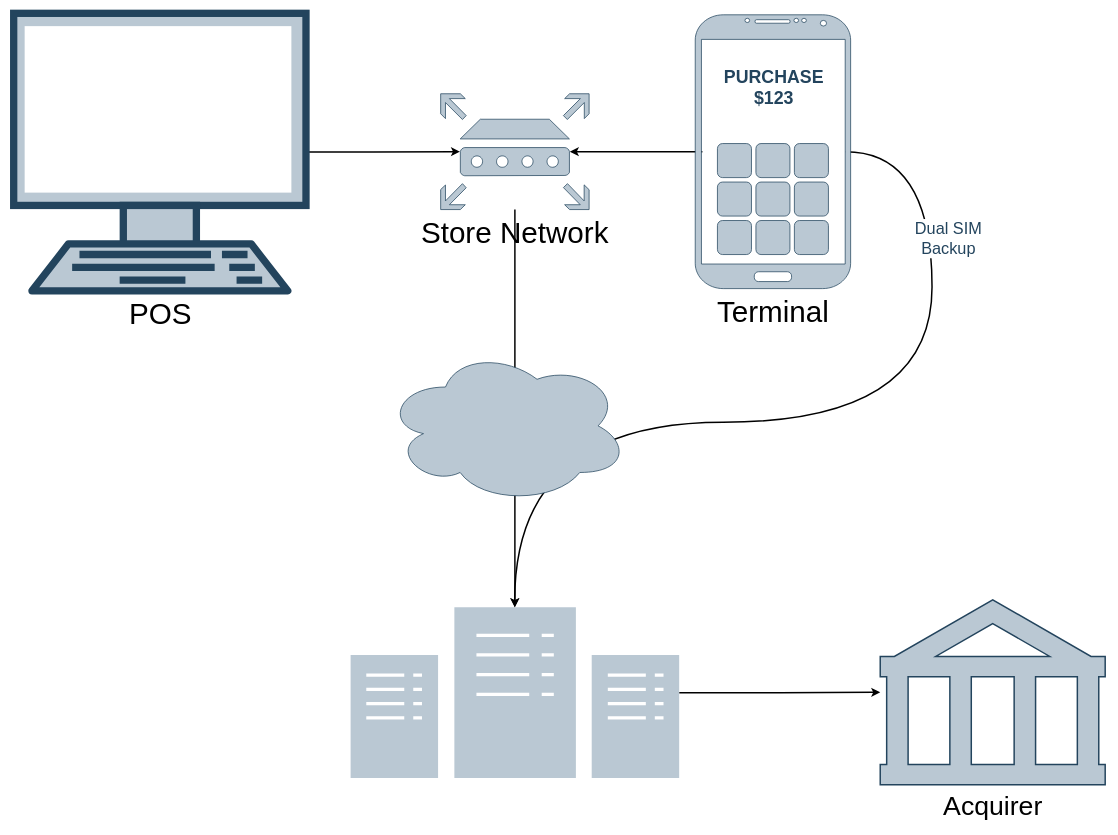
The diagram is 1118 pixels wide and 835 high, and some of its shapes have lost their labels. Here are the shapes that lost their labels. From the top down, the centre of each, then its label:
point 506,425: Internet
point 514,692: DataMesh Unify
